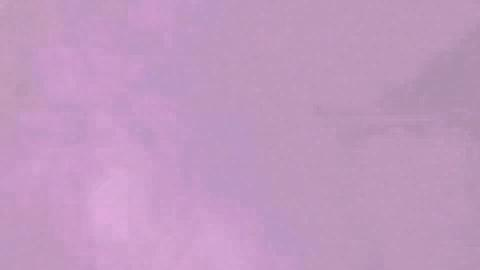tomato: (311, 112, 477, 268)
